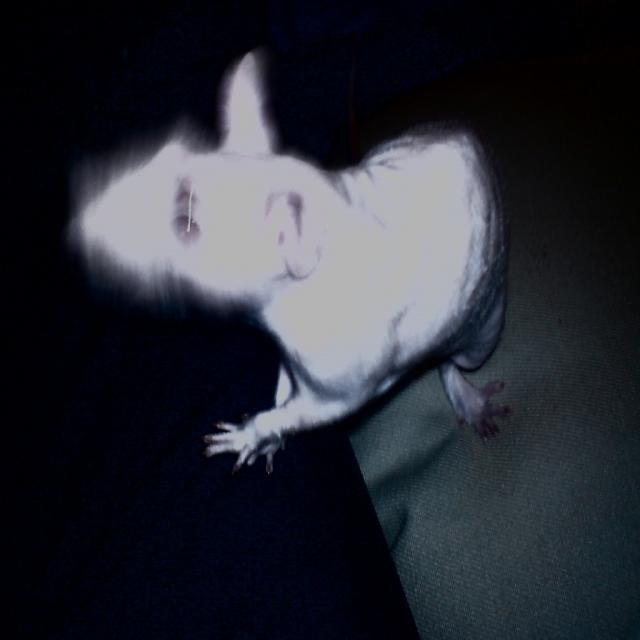rat: (70, 56, 512, 477)
